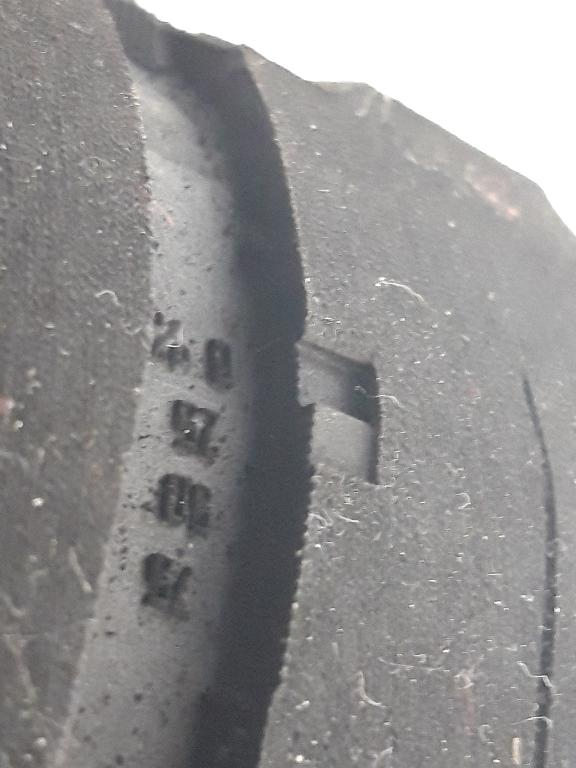temoin:25: (245, 315, 406, 517)
